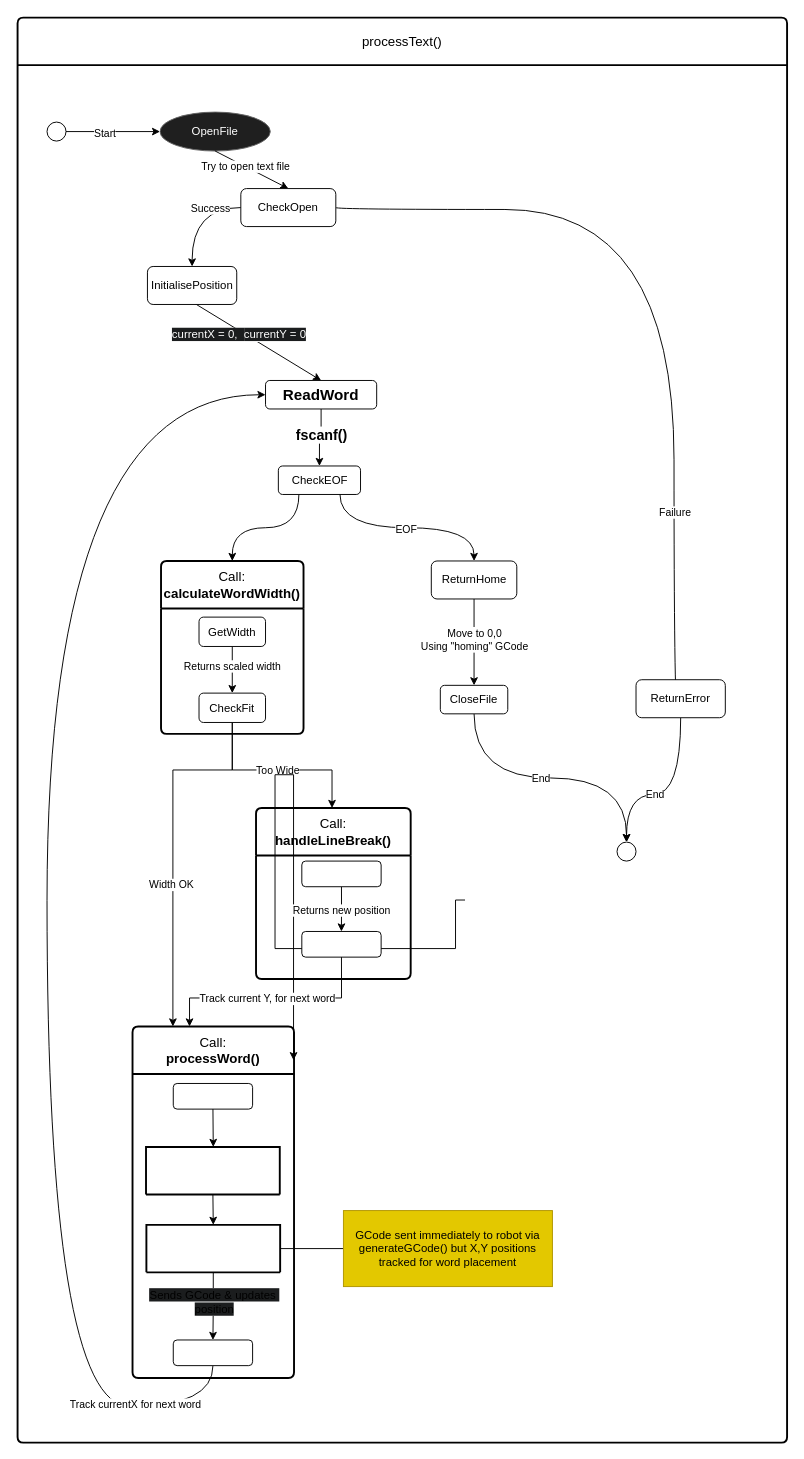
This 804x1459 diagram has some shape labels left out. Here are the shapes that lost their labels. From the top down, the centre of each, then its label:
(341,873): HandleBreak
(341,944): UpdatePos1
(212,1096): Process
(212,1170): Call: scaleMovements()
(213,1248): Call: generateGCode()
(212,1352): UpdatePos2
